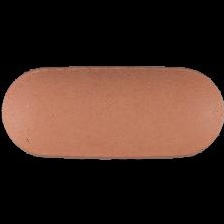54868-4899: (0, 0, 224, 224)
